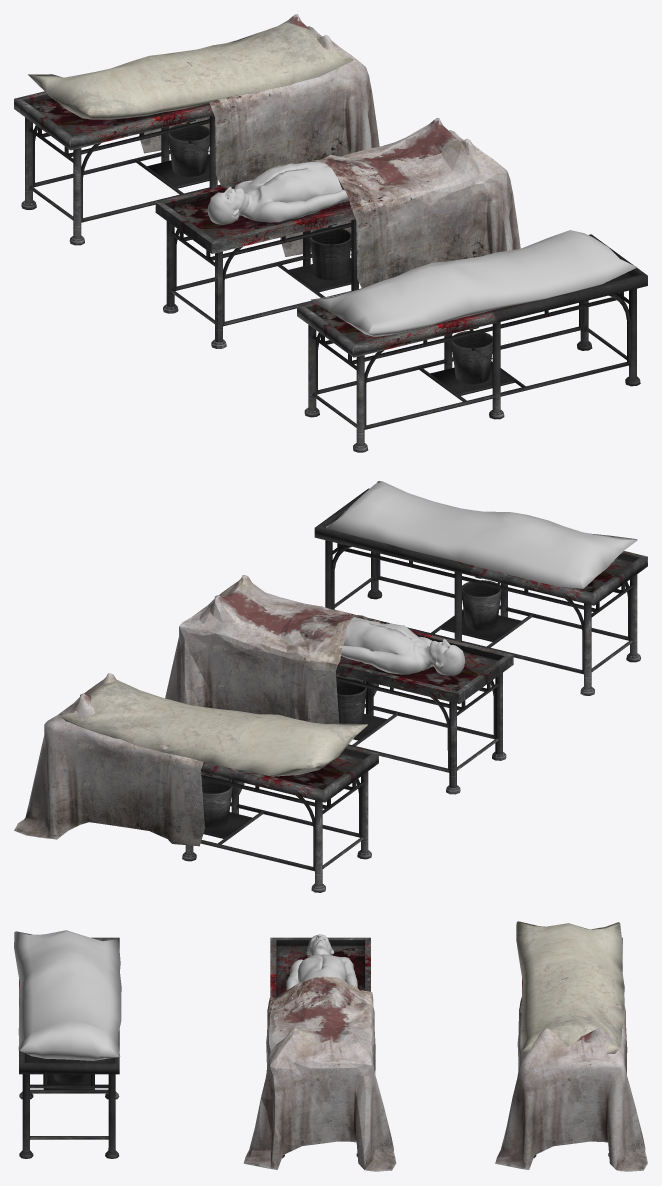
File: deadbodies.FBX
The picture shows the model from 3 angles, top to bottom: view 1: azimuth 30°, elevation 25°; view 2: azimuth 150°, elevation 25°; view 3: azimuth 270°, elevation 25°; orthographic projection. The views are drawn at different scales.
Visible parts, largest first — view 1: body2, body, body3; view 2: body2, body, body3; view 3: body2, body, body3.
Boxes of the visible parts, x1,y1,x2,y2 form: body2: (14,14,379,245); body: (155,118,520,348); body3: (297,230,647,452); body2: (14,673,378,892); body: (165,575,513,794); body3: (314,481,647,695); body2: (495,921,647,1171); body: (243,934,396,1171); body3: (14,930,121,1158).
Size of the model in its own units: 2.61 by 1.11 by 5.04.
